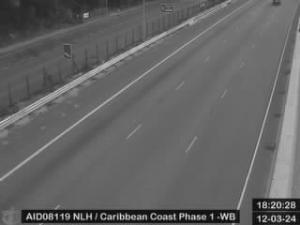vehicle: (272, 0, 280, 4)
